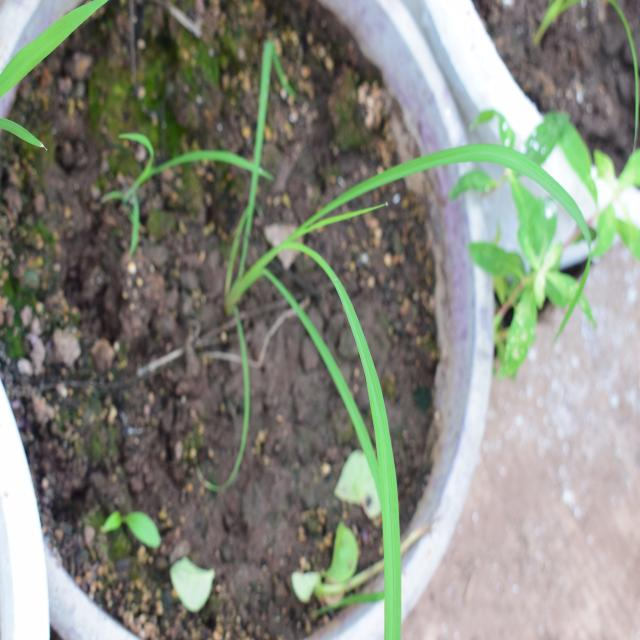barnyard_grass: (174, 52, 540, 628)
